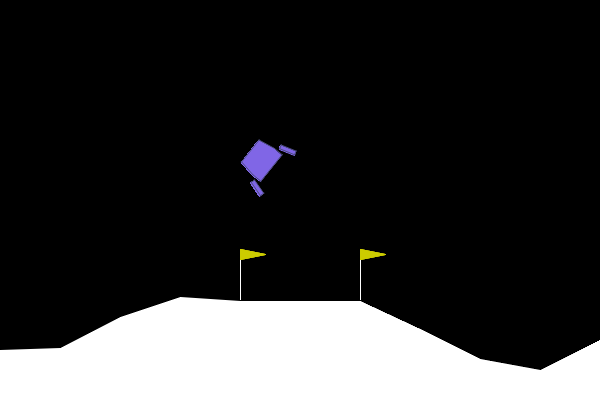lander: (229, 127, 298, 199)
